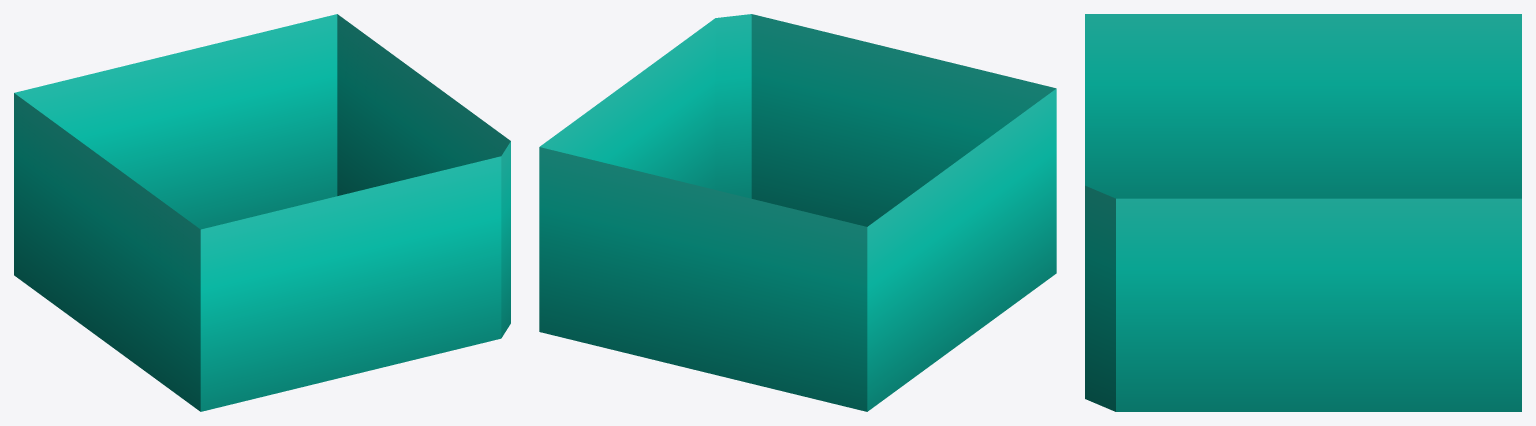
Rendered from Counter_01_Corner_C05.fbx.
3 views of the same model, side by side, from view 1: azimuth 30°, elevation 25°; view 2: azimuth 150°, elevation 25°; view 3: azimuth 270°, elevation 25° (orthographic). The views are drawn at different scales.
Parts seen in each view (by area): view 1: Counter_01_Corner_C05; view 2: Counter_01_Corner_C05; view 3: Counter_01_Corner_C05.
Boxes of the visible parts, bbox=[...] form: Counter_01_Corner_C05: bbox=[14, 14, 510, 411]; Counter_01_Corner_C05: bbox=[539, 14, 1056, 411]; Counter_01_Corner_C05: bbox=[1085, 14, 1521, 411].
Size of the model in its own units: 100 by 53.91 by 100.
